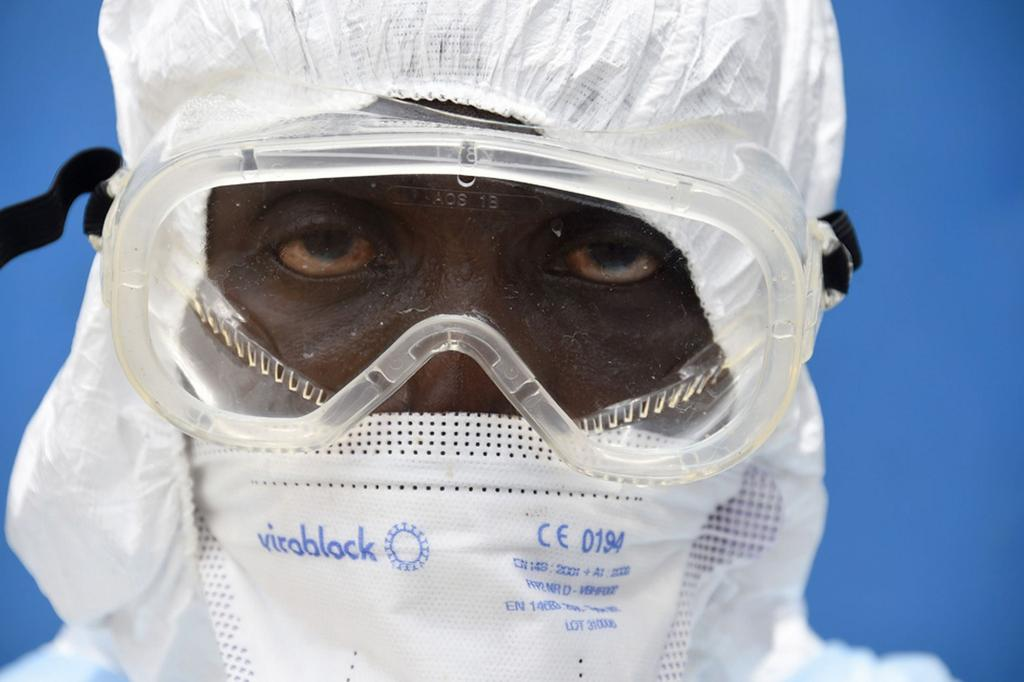face_mask: (162, 12, 784, 666)
